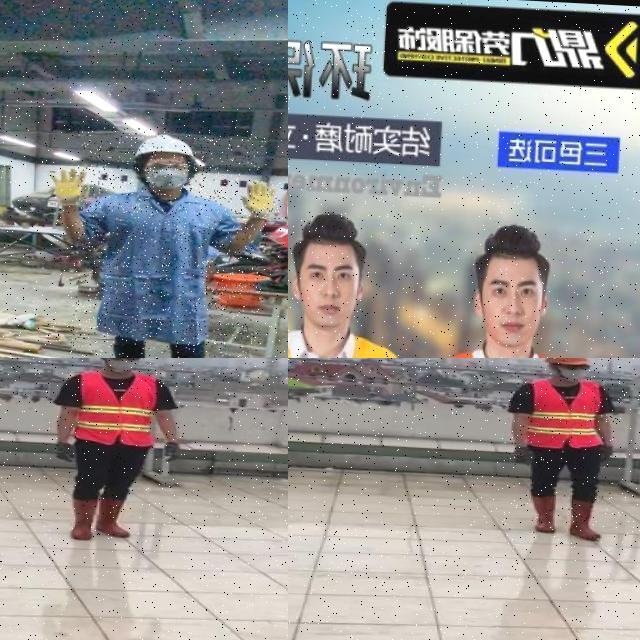boots: (94, 491, 135, 539), (564, 498, 604, 540), (69, 496, 103, 542), (526, 494, 558, 534)
helmet: (126, 127, 204, 171), (543, 358, 592, 366)
vest: (70, 371, 160, 446), (526, 378, 607, 452)
